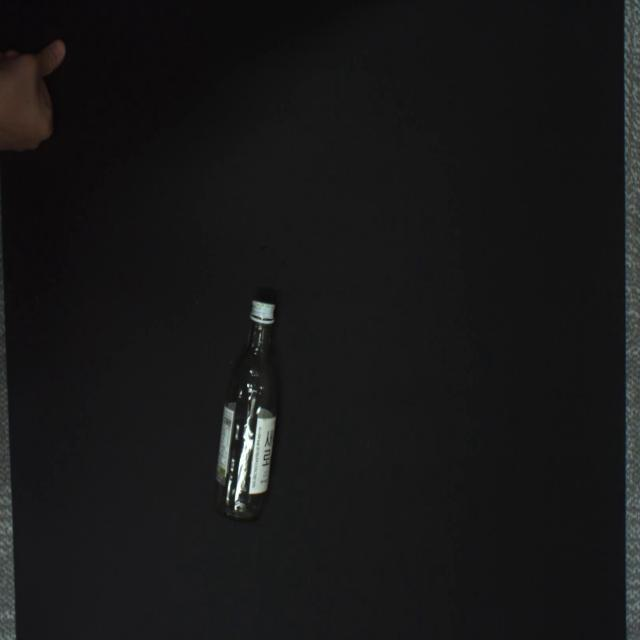soju-bottle: (214, 300, 279, 523)
